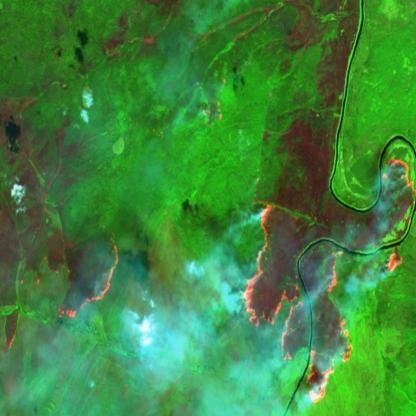fire: (241, 155, 416, 405), (57, 240, 122, 324)
